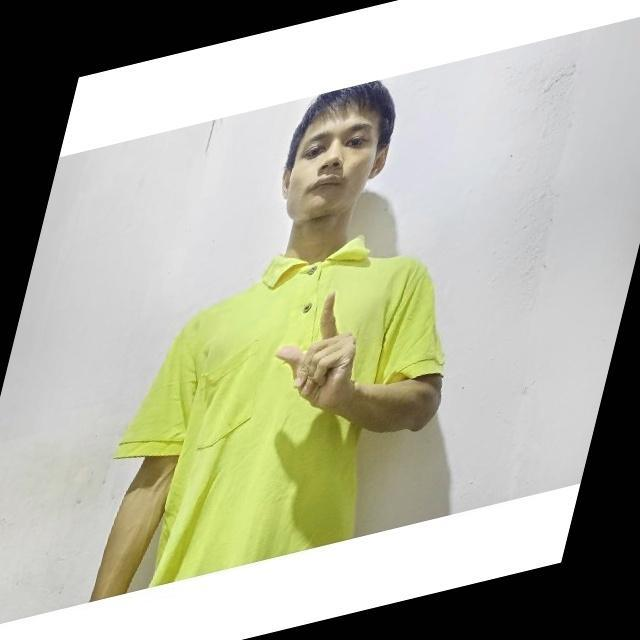R: (276, 288, 371, 430)
